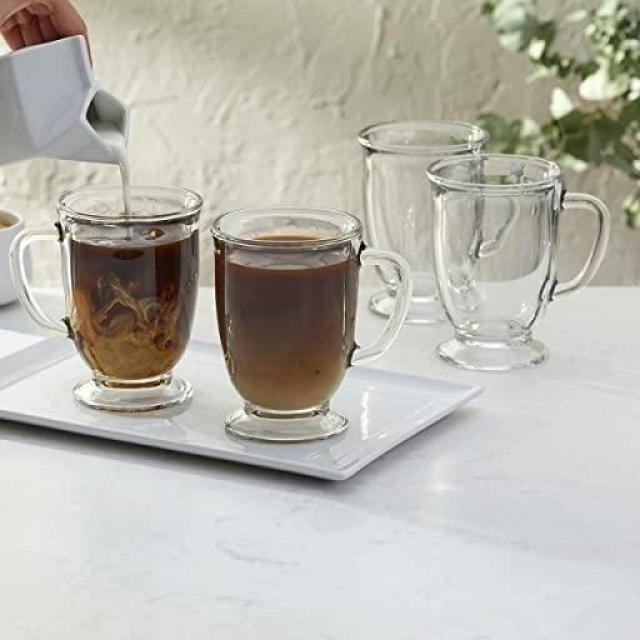glass-mug: (207, 202, 415, 446), (10, 176, 216, 422), (422, 154, 614, 378), (355, 114, 493, 331)
